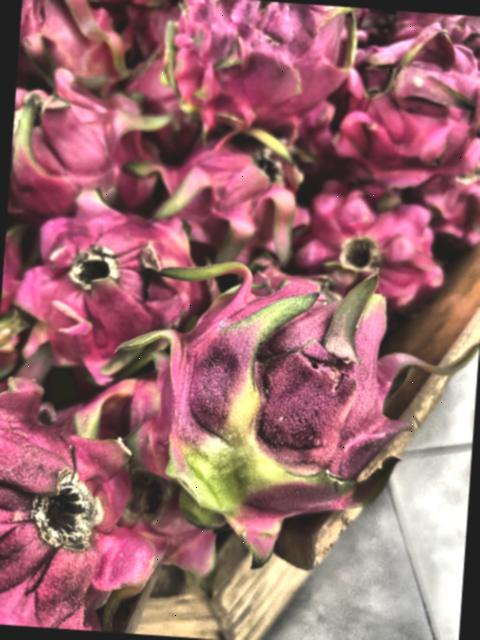buah-naga-belum-matang: (118, 244, 480, 560)
buah-naga-matang: (0, 369, 169, 635), (21, 182, 220, 378), (149, 0, 354, 128), (149, 110, 315, 266), (343, 18, 480, 197), (295, 170, 460, 314), (8, 73, 164, 214), (15, 0, 136, 106)
